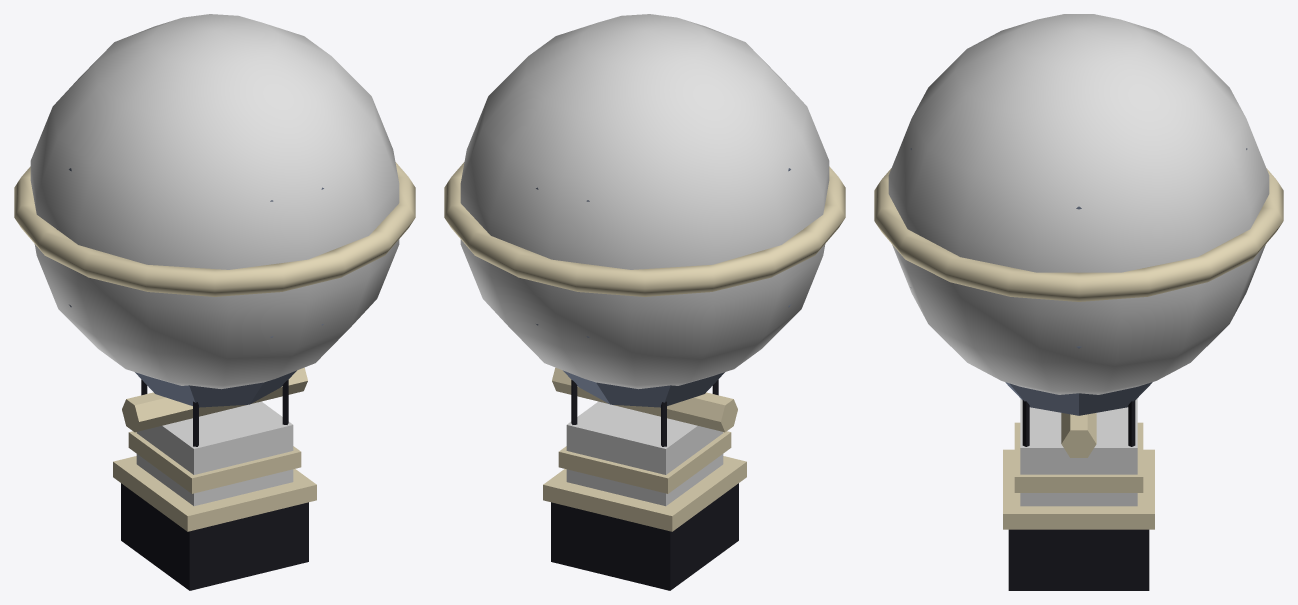
The model's file is Balloon_2.fbx.
The picture shows the model from 3 angles, left to right: view 1: azimuth 30°, elevation 25°; view 2: azimuth 150°, elevation 25°; view 3: azimuth 270°, elevation 25°; orthographic projection.
Visible parts, largest first — view 1: Balloon_2; view 2: Balloon_2; view 3: Balloon_2.
Boxes of the visible parts, bbox=[...] form: Balloon_2: bbox=[14, 14, 415, 590]; Balloon_2: bbox=[444, 14, 845, 590]; Balloon_2: bbox=[874, 14, 1283, 590].
Size of the model in its own units: 0.71 by 1 by 0.6992.
